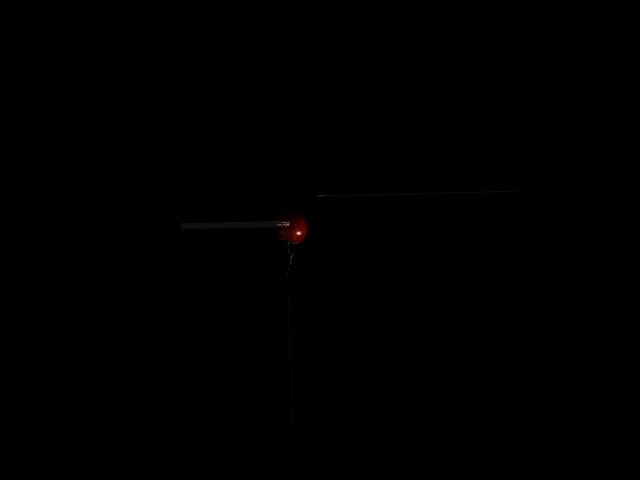tomato: (271, 212, 306, 243)
